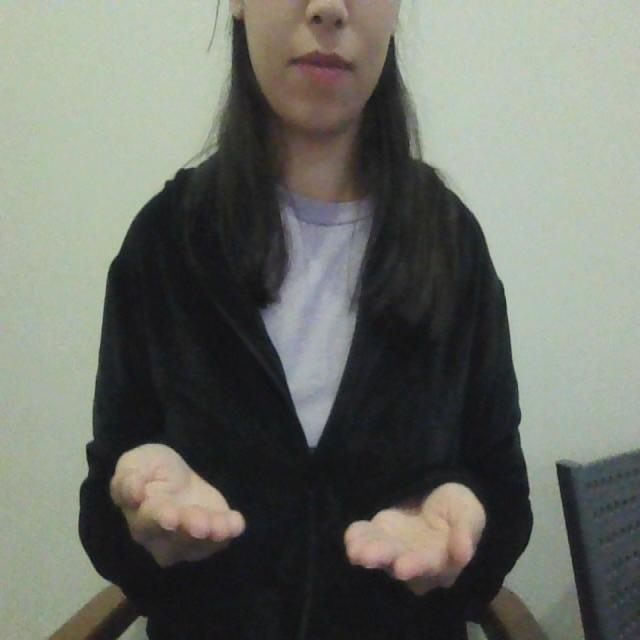Evet: (105, 438, 492, 607)
